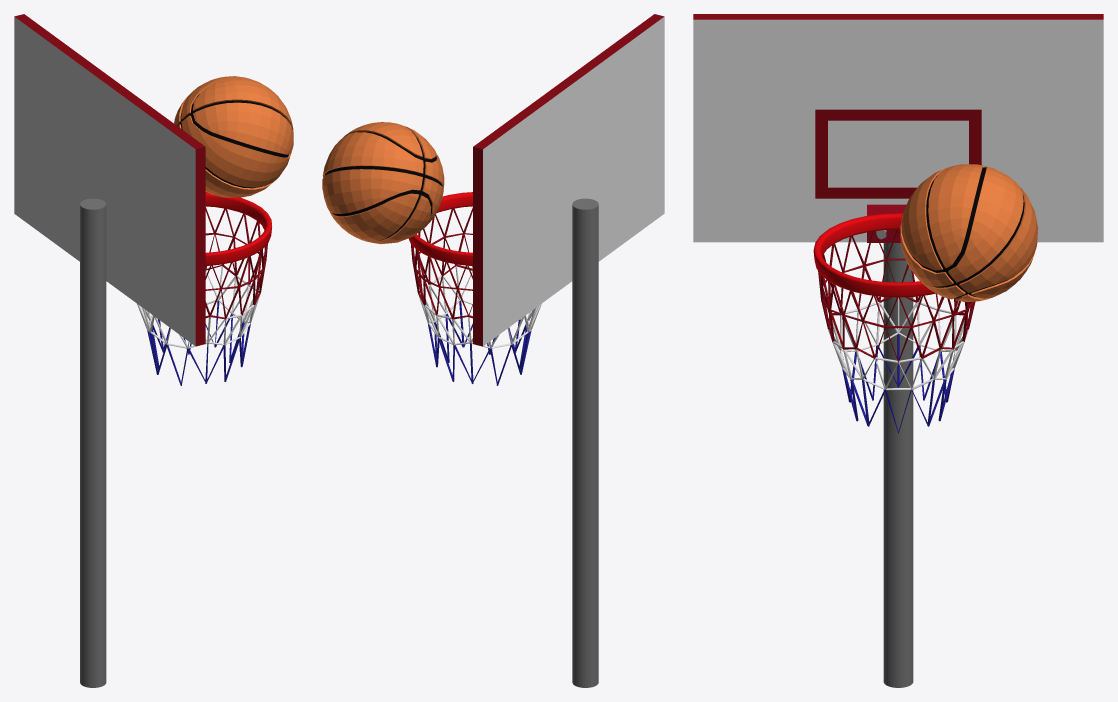
File: basketball hoop.dae
The picture shows the model from 3 angles, left to right: view 1: azimuth 30°, elevation 25°; view 2: azimuth 150°, elevation 25°; view 3: azimuth 270°, elevation 25°; orthographic projection. The views are drawn at different scales.
Visible parts, largest first — view 1: Cube, Цилиндр.001, Cube.001, Икосфера, Икосфера.001; view 2: Cube, Цилиндр.001, Cube.001, Икосфера, Икосфера.001; view 3: Cube, Cube.001, Цилиндр.001, Икосфера, Икосфера.001, Куб.
Boxes of the visible parts, x1,y1,x2,y2 form: Cube: (14, 14, 205, 346); Цилиндр.001: (80, 198, 106, 687); Cube.001: (174, 76, 293, 197); Икосфера: (137, 207, 267, 385); Икосфера.001: (205, 192, 271, 265); Cube: (473, 14, 664, 346); Цилиндр.001: (572, 198, 598, 687); Cube.001: (322, 122, 444, 244); Икосфера: (410, 207, 541, 385); Икосфера.001: (408, 192, 472, 265); Cube: (693, 14, 1103, 242); Cube.001: (900, 164, 1038, 301); Цилиндр.001: (883, 243, 913, 687); Икосфера: (818, 229, 975, 433); Икосфера.001: (813, 213, 935, 297); Куб: (867, 204, 906, 242).
Size of the model in its own units: 2.55 by 3.41 by 6.18.
